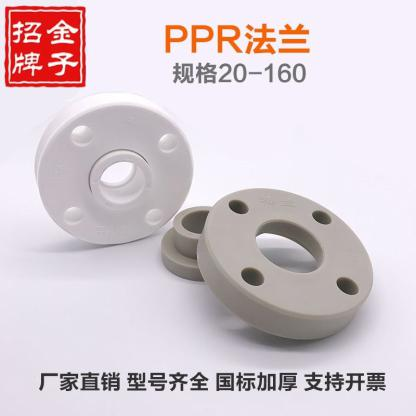FOD: (196, 184, 375, 341), (33, 94, 195, 253), (159, 197, 241, 282)
